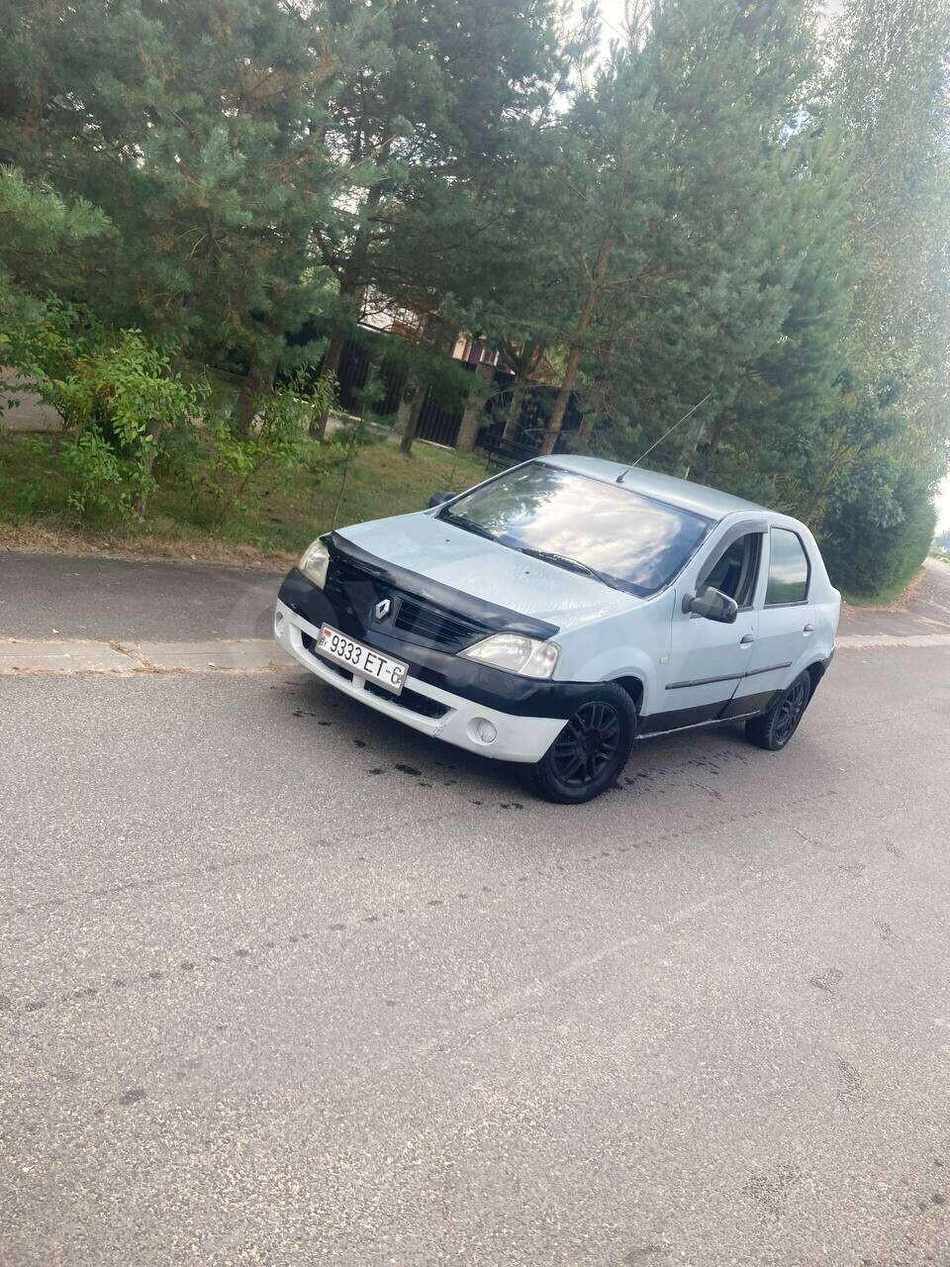Logan_2004-2009: (270, 445, 843, 818)
